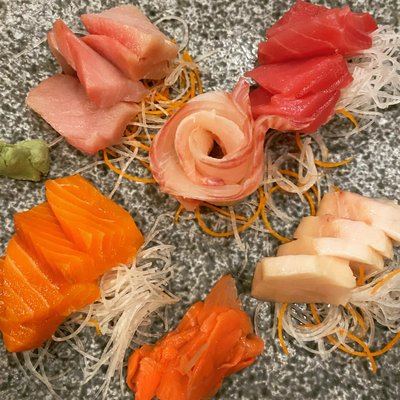pizza: (0, 175, 145, 355), (126, 273, 266, 400)
